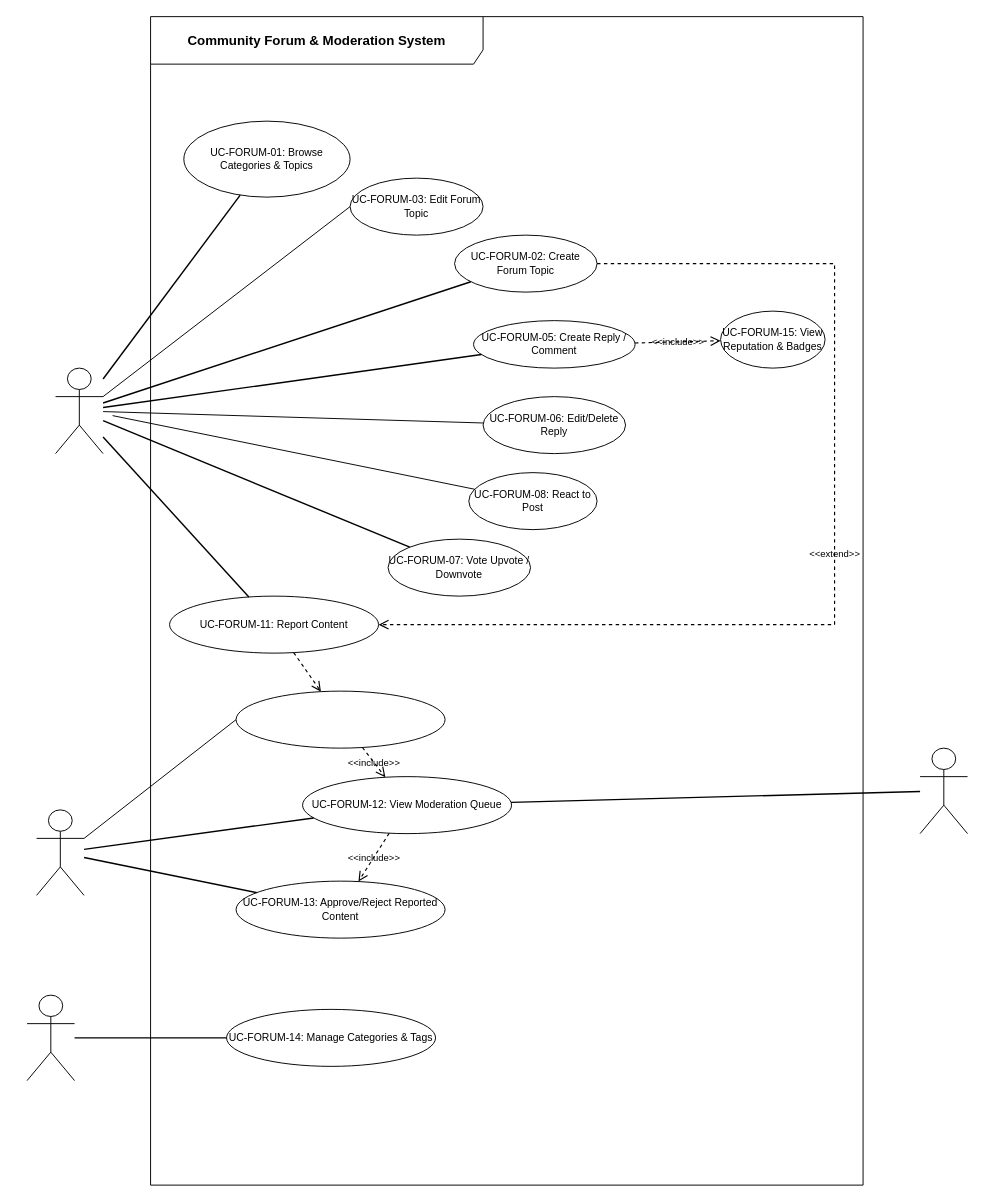
Some shapes in this 1002 by 1202 pixel diagram are drawn without their labels. The centre of each missing label's shape, as x and y in pixels:
Automated Filter: the point at 943,790
Forum Moderator: the point at 60,852
Forum User / Candidate: the point at 79,410
Super Admin: the point at 50,1037
UC-FORUM-04: Delete Forum Topic: the point at 340,719
